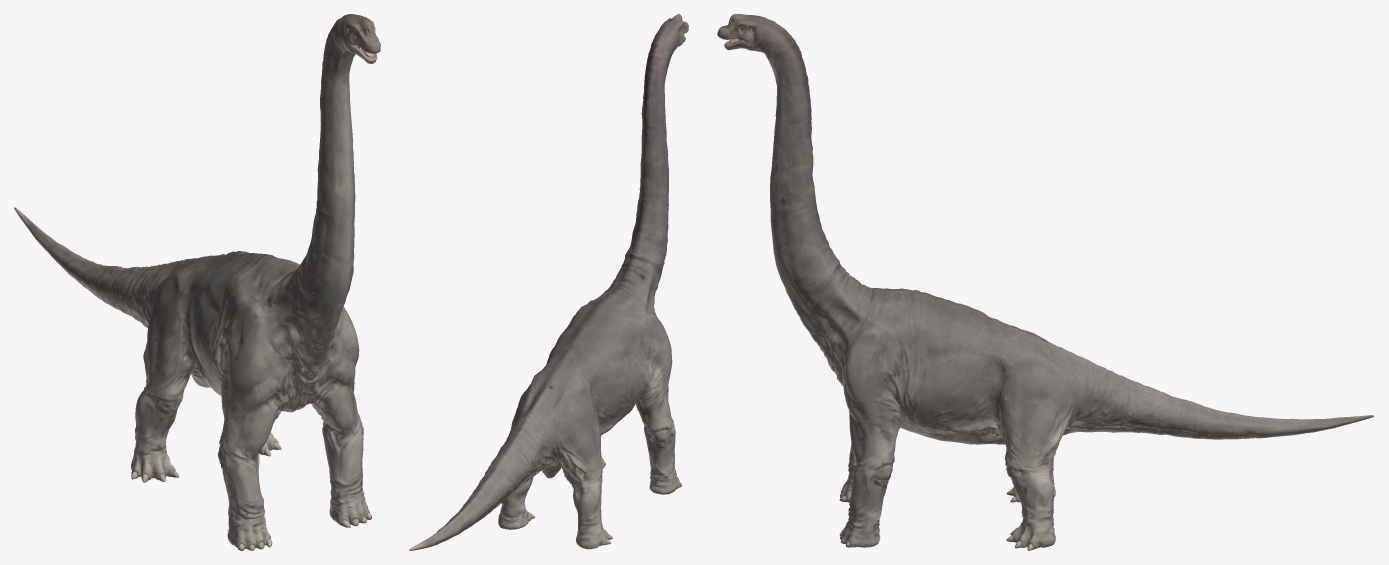
Rendered from brachiosaurus.glb.
The picture shows the model from 3 angles, left to right: view 1: azimuth 30°, elevation 25°; view 2: azimuth 150°, elevation 25°; view 3: azimuth 270°, elevation 25°; orthographic projection. The views are drawn at different scales.
Visible parts, largest first — view 1: BRACHIOSAURUS_body_BRACHIOSAURUS_0; view 2: BRACHIOSAURUS_body_BRACHIOSAURUS_0; view 3: BRACHIOSAURUS_body_BRACHIOSAURUS_0.
Boxes of the visible parts, box(x1,y1,x2,y2) form: BRACHIOSAURUS_body_BRACHIOSAURUS_0: box(14, 14, 380, 550); BRACHIOSAURUS_body_BRACHIOSAURUS_0: box(409, 14, 688, 550); BRACHIOSAURUS_body_BRACHIOSAURUS_0: box(717, 14, 1373, 550).
Bounding box in the file's own units: 3.58 × 13.06 × 15.36.
Materials: 2 (1 with a texture image).
